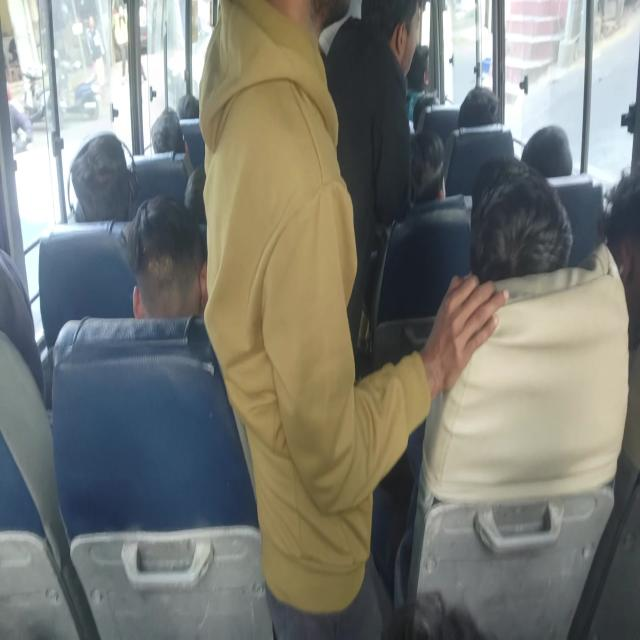person: (211, 1, 358, 344), (124, 195, 208, 321), (472, 166, 574, 268), (602, 166, 640, 372), (70, 133, 138, 225), (383, 590, 492, 640), (362, 5, 418, 76), (521, 124, 573, 180), (411, 128, 445, 204), (457, 85, 502, 129), (150, 108, 185, 158), (184, 164, 208, 226), (412, 93, 440, 135), (406, 43, 429, 93), (176, 94, 200, 120)
